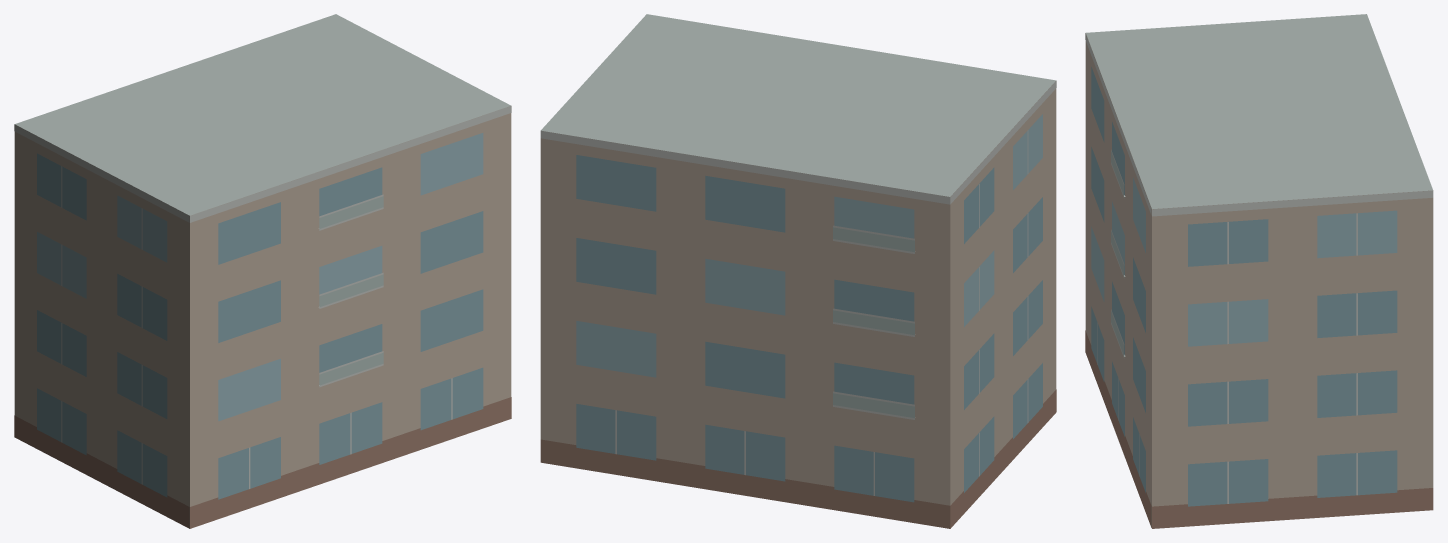
File: survey-upis-32696341.glb
3 views of the same model, side by side, from view 1: azimuth 30°, elevation 25°; view 2: azimuth 150°, elevation 25°; view 3: azimuth 270°, elevation 25° (orthographic). The views are drawn at different scales.
Visible parts, largest first — view 1: survey-upis-32696341.tmp; view 2: survey-upis-32696341.tmp; view 3: survey-upis-32696341.tmp.
Boxes of the visible parts, x1,y1,x2,y2 form: survey-upis-32696341.tmp: (14,14,511,528); survey-upis-32696341.tmp: (540,14,1056,528); survey-upis-32696341.tmp: (1085,14,1433,528).
Size of the model in its own units: 13.88 by 10.6 by 10.46.
